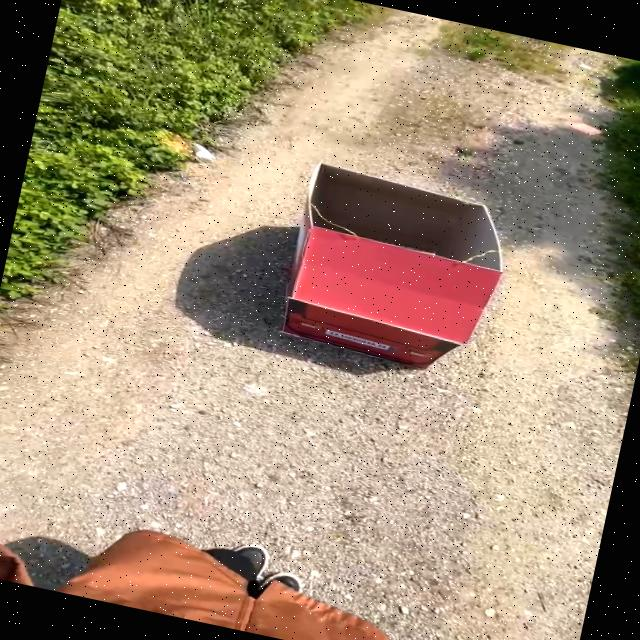red_car: (222, 144, 590, 408)
